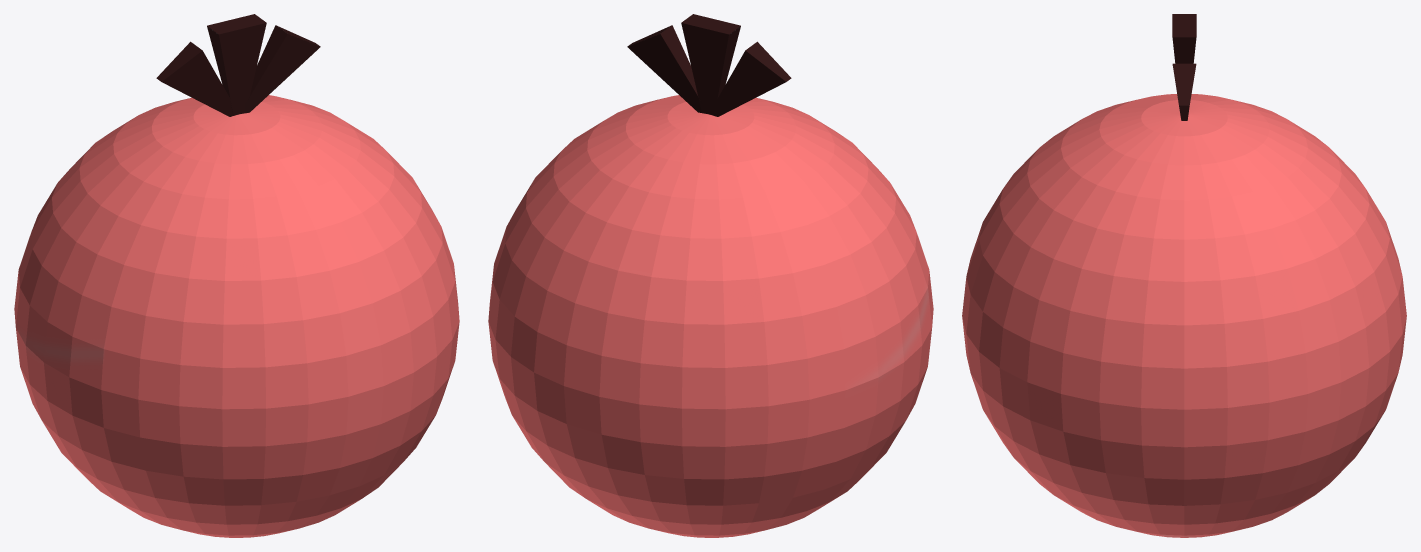
File: player_kotubu.obj
3 views of the same model, side by side, from view 1: azimuth 30°, elevation 25°; view 2: azimuth 150°, elevation 25°; view 3: azimuth 270°, elevation 25° (orthographic).
Parts seen in each view (by area): view 1: 球; view 2: 球; view 3: 球.
Part boxes in pixels (left/top/right/bottom): 球: left=14, top=14, right=459, bottom=537; 球: left=488, top=14, right=933, bottom=537; 球: left=962, top=14, right=1406, bottom=537.
Bounding box in the file's own units: 2 × 2.44 × 2.
